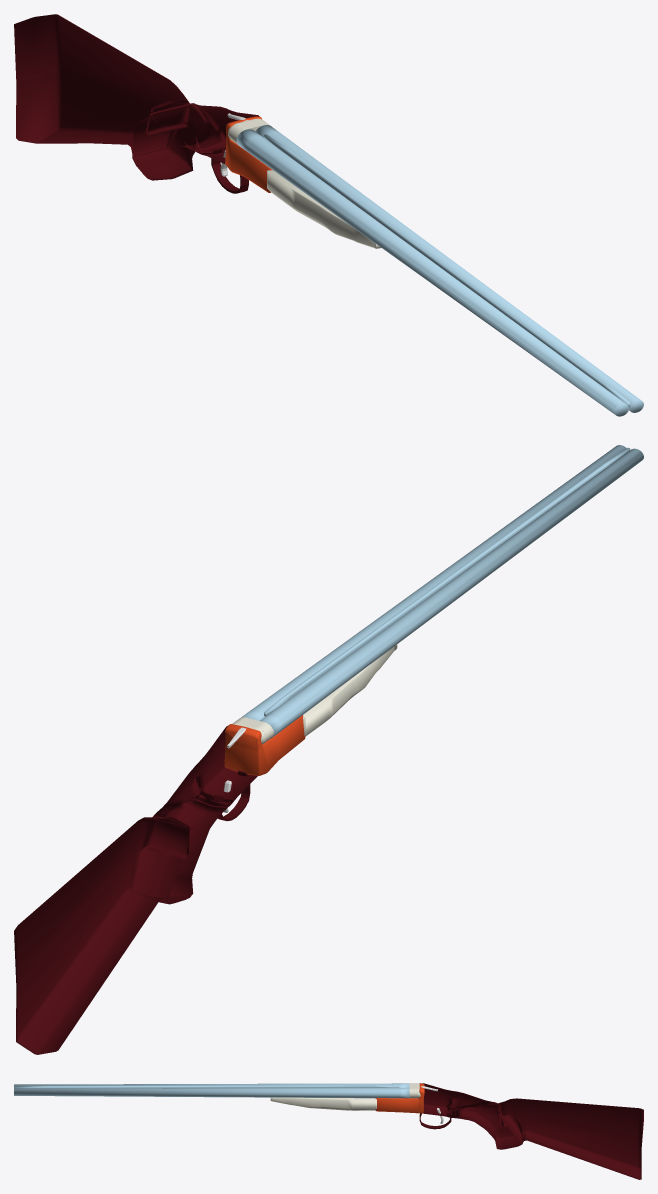
Rendered from big_gun.glb.
3 views of the same model, one above another, from view 1: azimuth 30°, elevation 25°; view 2: azimuth 150°, elevation 25°; view 3: azimuth 270°, elevation 25° (orthographic). The views are drawn at different scales.
Visible parts, largest first — view 1: Cube.004; view 2: Cube.004; view 3: Cube.004.
Boxes of the visible parts, box(x1,y1,x2,y2) form: Cube.004: box(14, 14, 643, 416); Cube.004: box(14, 445, 643, 1054); Cube.004: box(14, 1083, 643, 1179).
Bounding box in the file's own units: 0.4125 × 1.41 × 8.64.
